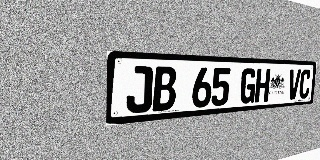5: (211, 68, 231, 106)
6: (192, 67, 213, 108)
B: (152, 66, 177, 112)
C: (298, 69, 311, 99)
G: (239, 68, 257, 104)
H: (254, 69, 271, 103)
J: (126, 66, 153, 114)
V: (287, 69, 301, 100)
